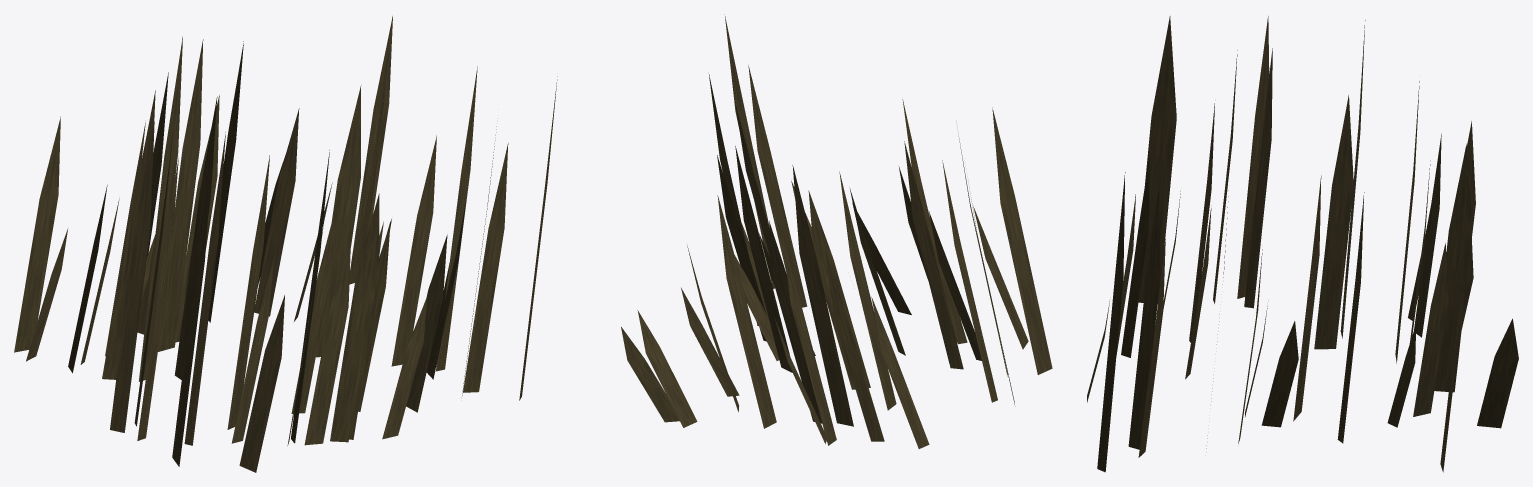
Rendered from grass_clump.glb.
3 views of the same model, side by side, from view 1: azimuth 30°, elevation 25°; view 2: azimuth 150°, elevation 25°; view 3: azimuth 270°, elevation 25° (orthographic). The views are drawn at different scales.
Parts seen in each view (by area): view 1: Bent_grass_blades; view 2: Bent_grass_blades; view 3: Bent_grass_blades.
Part boxes in pixels (bbox=[...]): Bent_grass_blades: bbox=[14, 16, 557, 472]; Bent_grass_blades: bbox=[621, 14, 1052, 448]; Bent_grass_blades: bbox=[1087, 16, 1518, 472].
Bounding box in the file's own units: 0.8001 × 0.6403 × 0.7374.
1 material, 1 textured.
